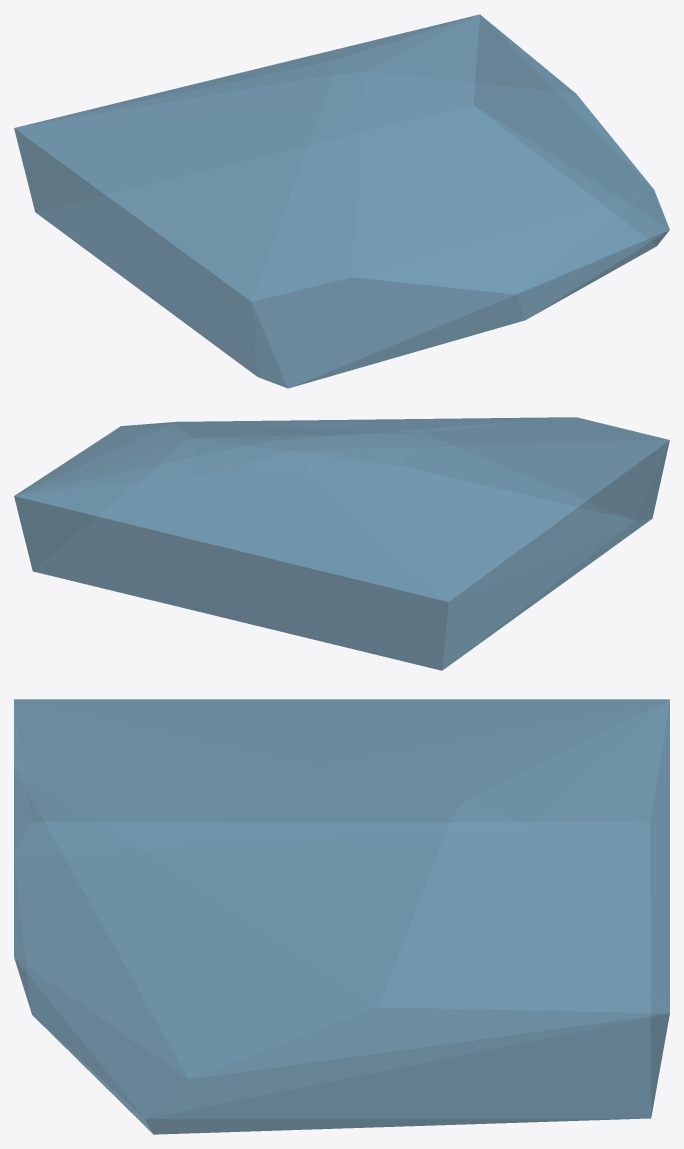
3 views of the same model, one above another, from view 1: azimuth 30°, elevation 25°; view 2: azimuth 150°, elevation 25°; view 3: azimuth 270°, elevation 25° (orthographic). The views are drawn at different scales.
Visible parts, largest first — view 1: Shape_IndexedFaceSet.029_Shape_IndexedFaceSet.4375; view 2: Shape_IndexedFaceSet.029_Shape_IndexedFaceSet.4375; view 3: Shape_IndexedFaceSet.029_Shape_IndexedFaceSet.4375.
Part boxes in pixels (left/top/right/bottom): Shape_IndexedFaceSet.029_Shape_IndexedFaceSet.4375: left=14, top=14, right=669, bottom=388; Shape_IndexedFaceSet.029_Shape_IndexedFaceSet.4375: left=14, top=417, right=669, bottom=670; Shape_IndexedFaceSet.029_Shape_IndexedFaceSet.4375: left=14, top=699, right=669, bottom=1134.
Size of the model in its own units: 0.3259 by 0.0959 by 0.2876.
